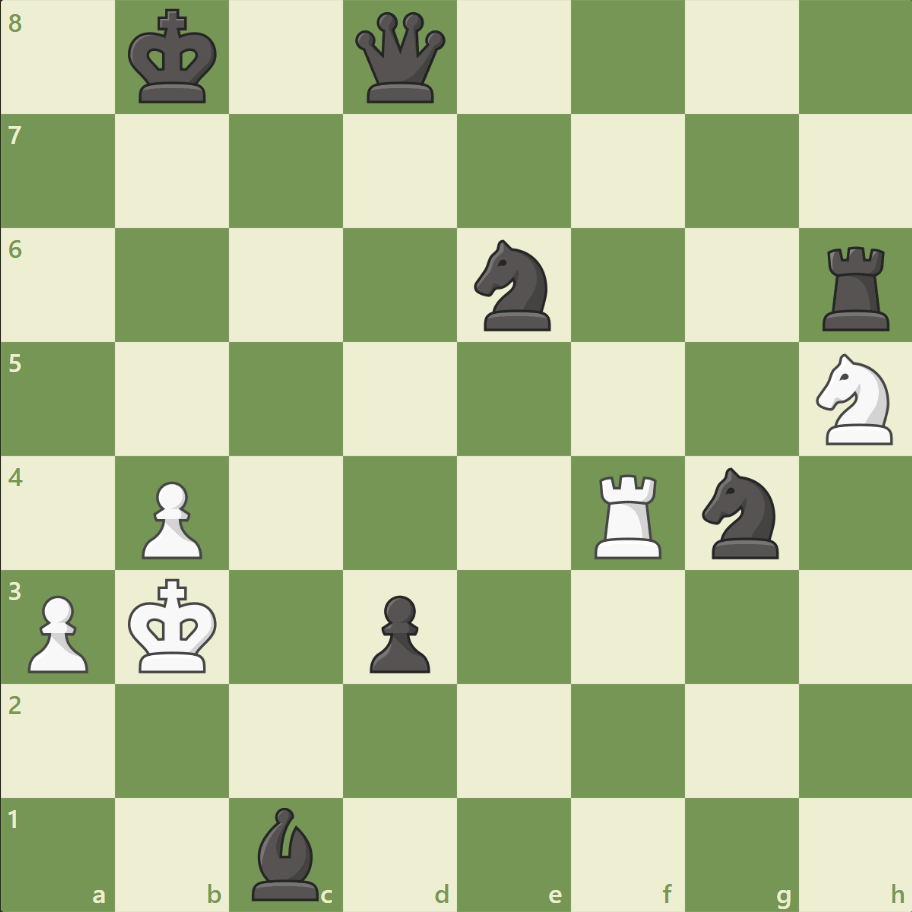K: (124, 571, 224, 679)
N: (806, 348, 903, 450)
P: (133, 473, 208, 564), (20, 586, 95, 677)
R: (587, 466, 670, 563)
b: (244, 801, 328, 904)
k: (124, 4, 224, 112)
n: (465, 234, 562, 337), (692, 461, 789, 564)
p: (361, 586, 435, 677)
q: (351, 9, 450, 108)
r: (814, 239, 897, 336)
